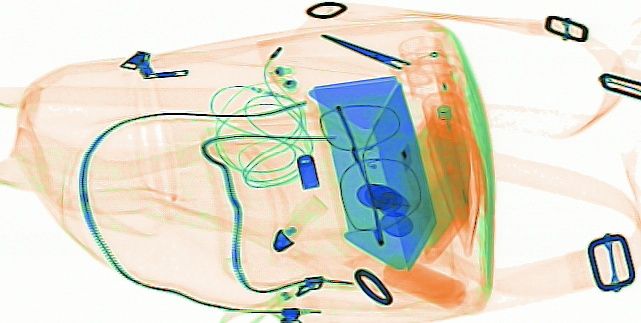scissors: (316, 30, 456, 87)
